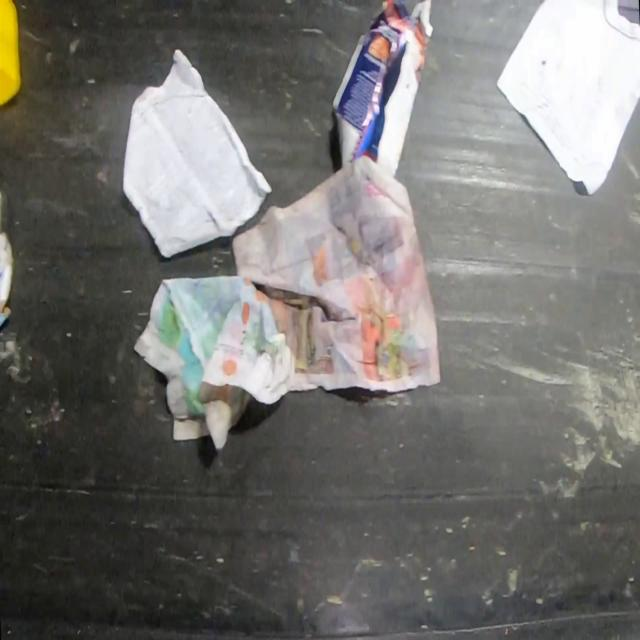cardboard: (0, 233, 13, 331)
rigid_plastic: (0, 1, 22, 106)
